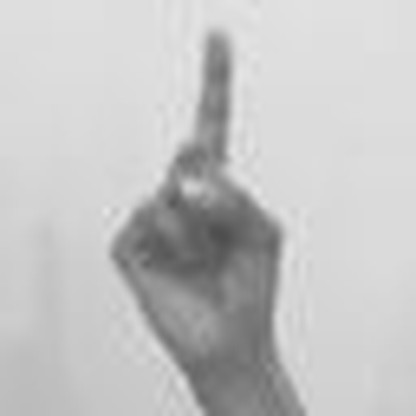d: (87, 23, 313, 342)
